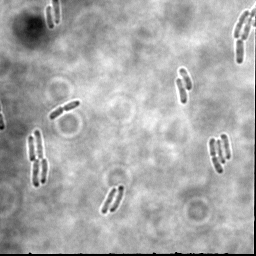Dividing: (48, 99, 81, 120), (208, 137, 224, 174), (233, 8, 251, 39)
Microcolony: (28, 129, 50, 188)
Rod: (99, 185, 119, 215), (108, 184, 125, 213), (177, 66, 194, 91), (175, 77, 189, 106), (220, 132, 232, 160), (234, 38, 246, 65), (216, 138, 227, 164), (44, 5, 55, 30), (52, 1, 61, 25)
